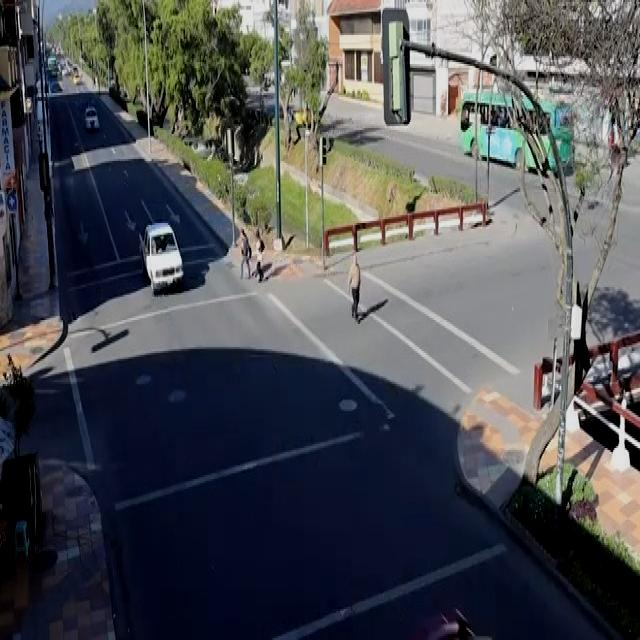CMT: (135, 224, 187, 297)
